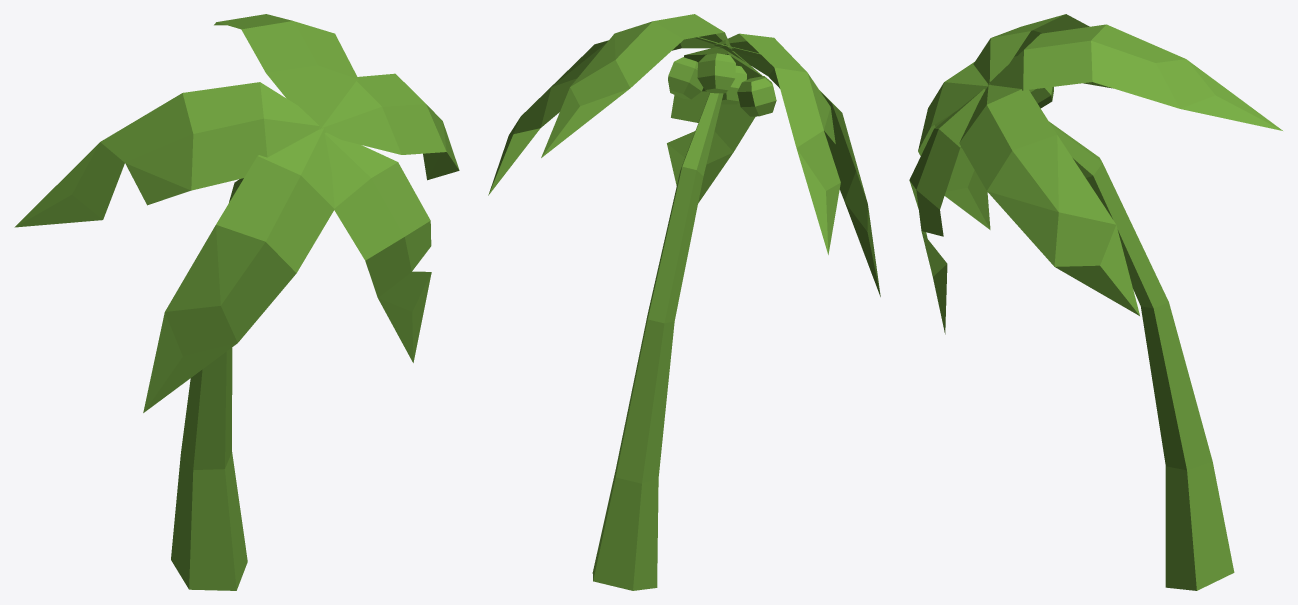
The model's file is oasis-palm-coconut.fbx.
3 views of the same model, side by side, from view 1: azimuth 30°, elevation 25°; view 2: azimuth 150°, elevation 25°; view 3: azimuth 270°, elevation 25° (orthographic). The views are drawn at different scales.
Parts seen in each view (by area): view 1: oasis-palm-coconut; view 2: oasis-palm-coconut; view 3: oasis-palm-coconut.
Boxes of the visible parts, left/top/right/bottom form: oasis-palm-coconut: left=14, top=14, right=459, bottom=590; oasis-palm-coconut: left=488, top=14, right=880, bottom=590; oasis-palm-coconut: left=909, top=14, right=1282, bottom=590.
Bounding box in the file's own units: 4.81 × 6.85 × 4.19.
